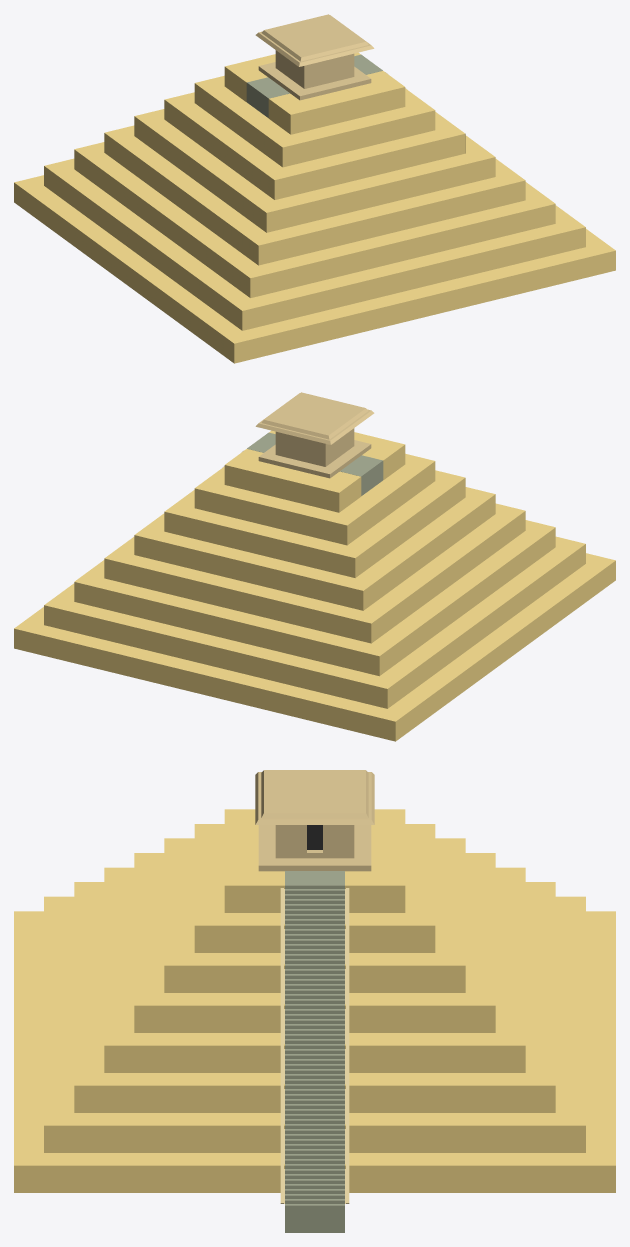
Rendered from Piramida.fbx.
3 renders of one model, top to bottom at view 1: azimuth 30°, elevation 25°; view 2: azimuth 150°, elevation 25°; view 3: azimuth 270°, elevation 25°, orthographic. The views are drawn at different scales.
Visible parts, largest first — view 1: Cube.010, Cube.021, Cube.019; view 2: Cube.010, Cube.021, Cube.019; view 3: Cube.010, Cube.019, Cube.021, Cube.020.
Boxes of the visible parts, x1,y1,x2,y2 form: Cube.010: [14, 52, 615, 363]; Cube.021: [255, 14, 374, 100]; Cube.019: [246, 54, 382, 117]; Cube.010: [14, 430, 615, 741]; Cube.021: [255, 392, 374, 478]; Cube.019: [247, 432, 383, 495]; Cube.010: [14, 809, 615, 1192]; Cube.019: [285, 871, 344, 1232]; Cube.021: [255, 770, 374, 871]; Cube.020: [280, 888, 349, 1203].
Size of the model in its own units: 4201 by 2207 by 4000.
